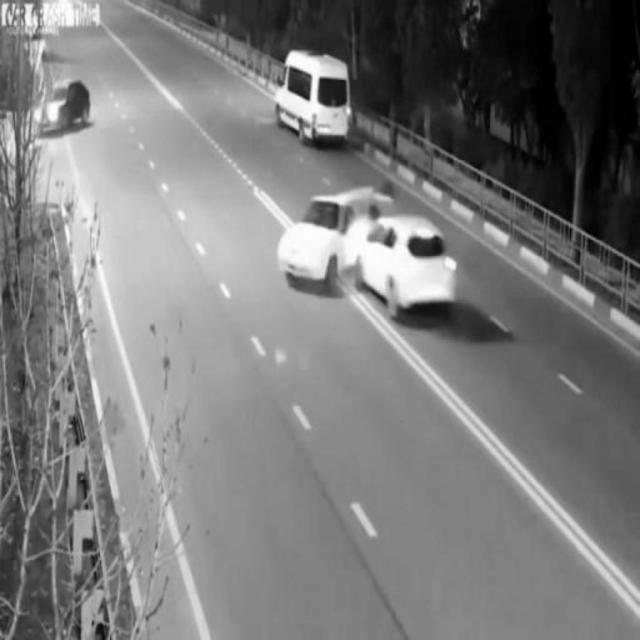accident: (272, 190, 457, 312)
vehicle: (276, 51, 353, 142), (35, 80, 90, 132)
